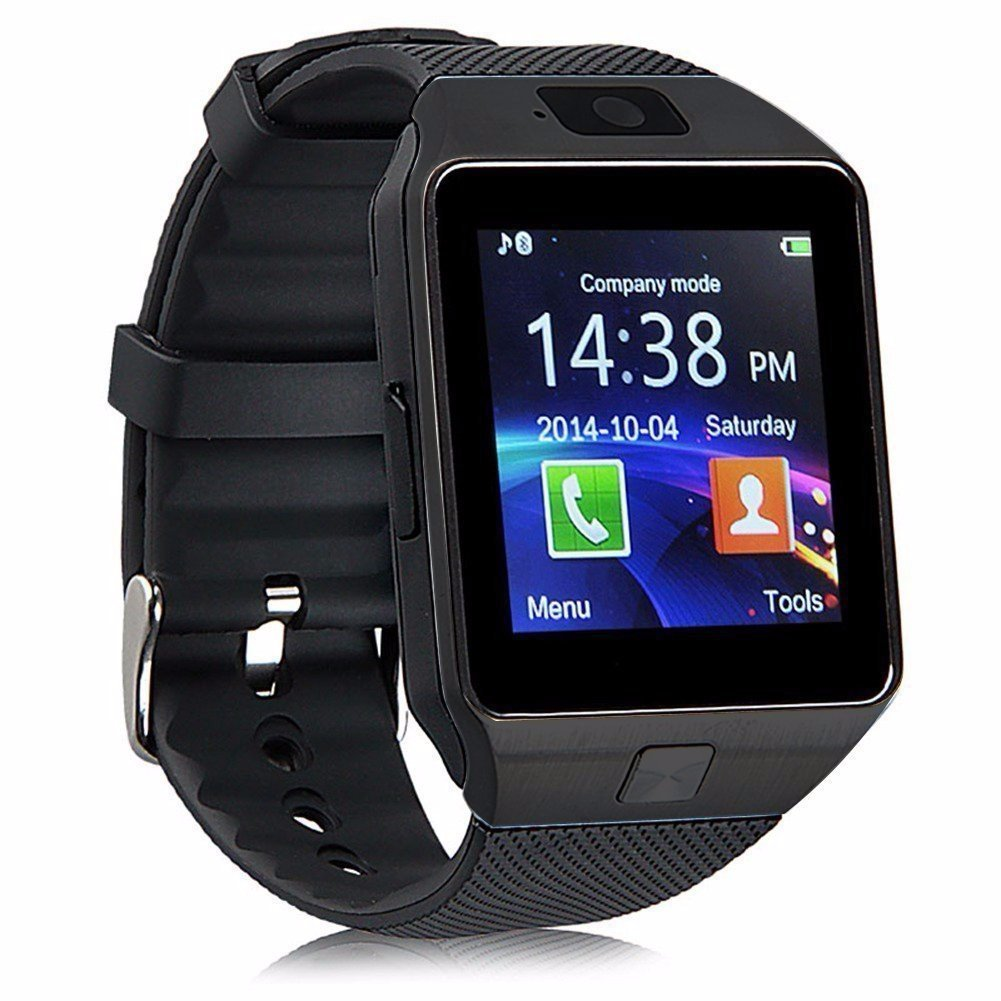Smart Watch: (43, 14, 939, 966)
